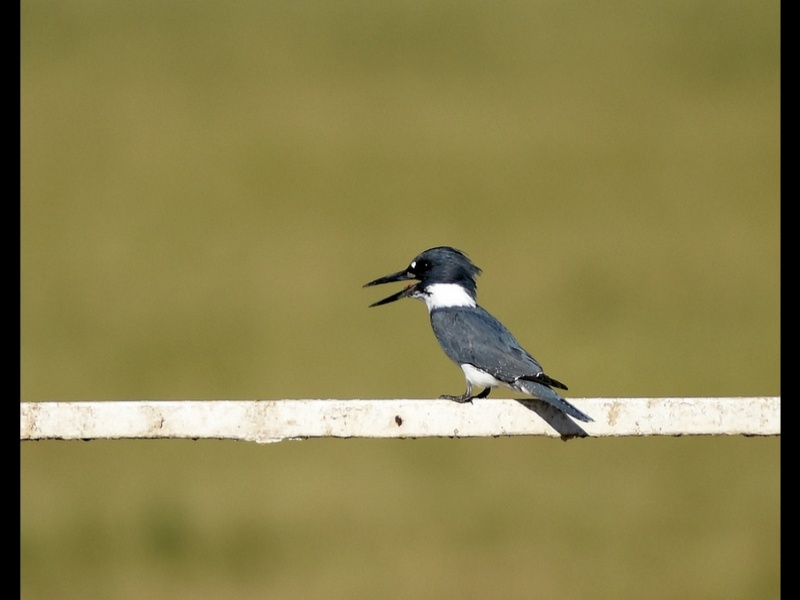kingfisher: (362, 244, 593, 425)
